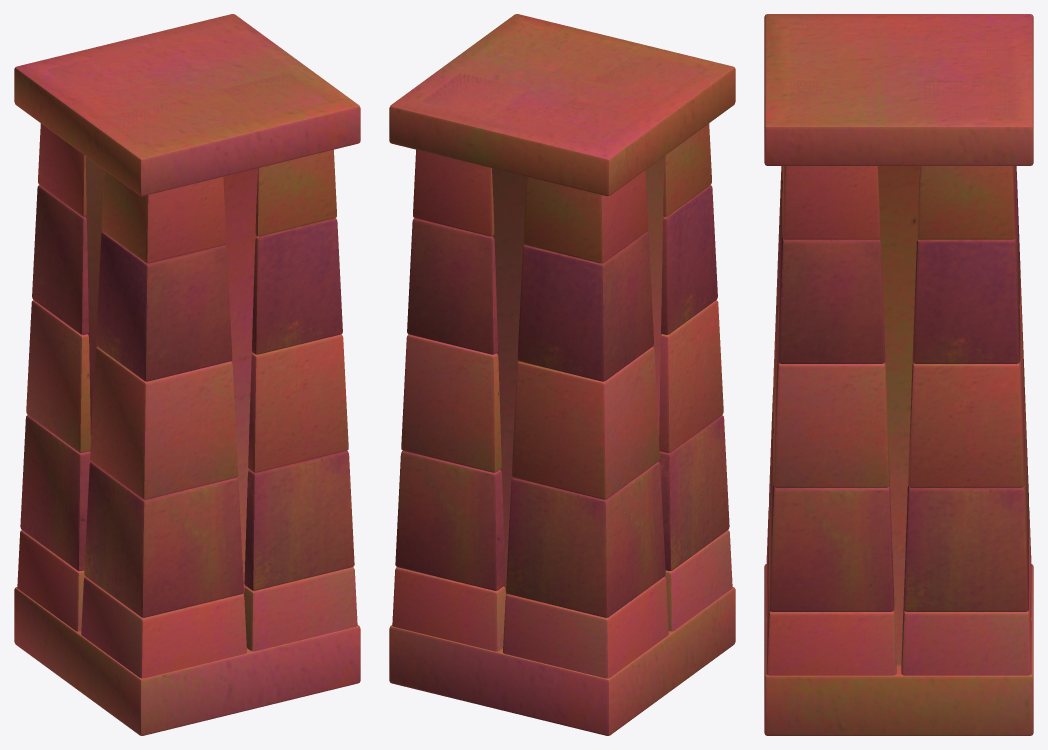
The model's file is TEMPLE_PILLAR_BIG.obj.
The picture shows the model from 3 angles, left to right: view 1: azimuth 30°, elevation 25°; view 2: azimuth 150°, elevation 25°; view 3: azimuth 270°, elevation 25°; orthographic projection. The views are drawn at different scales.
Visible parts, largest first — view 1: TEMPLE_PILLAR_BIG.001; view 2: TEMPLE_PILLAR_BIG.001; view 3: TEMPLE_PILLAR_BIG.001.
Part boxes in pixels (bbox=[...]): TEMPLE_PILLAR_BIG.001: bbox=[14, 14, 360, 735]; TEMPLE_PILLAR_BIG.001: bbox=[389, 14, 735, 735]; TEMPLE_PILLAR_BIG.001: bbox=[764, 14, 1033, 735].
Size of the model in its own units: 1.2 by 3 by 1.2.
